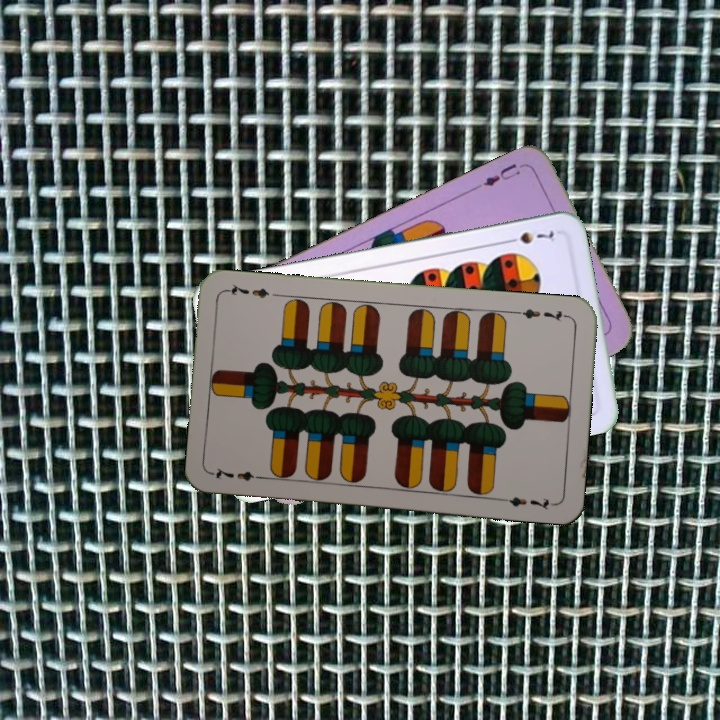E7: (209, 463, 268, 484), (512, 304, 572, 324)
EU: (478, 159, 529, 189)
S7: (501, 227, 558, 247)
